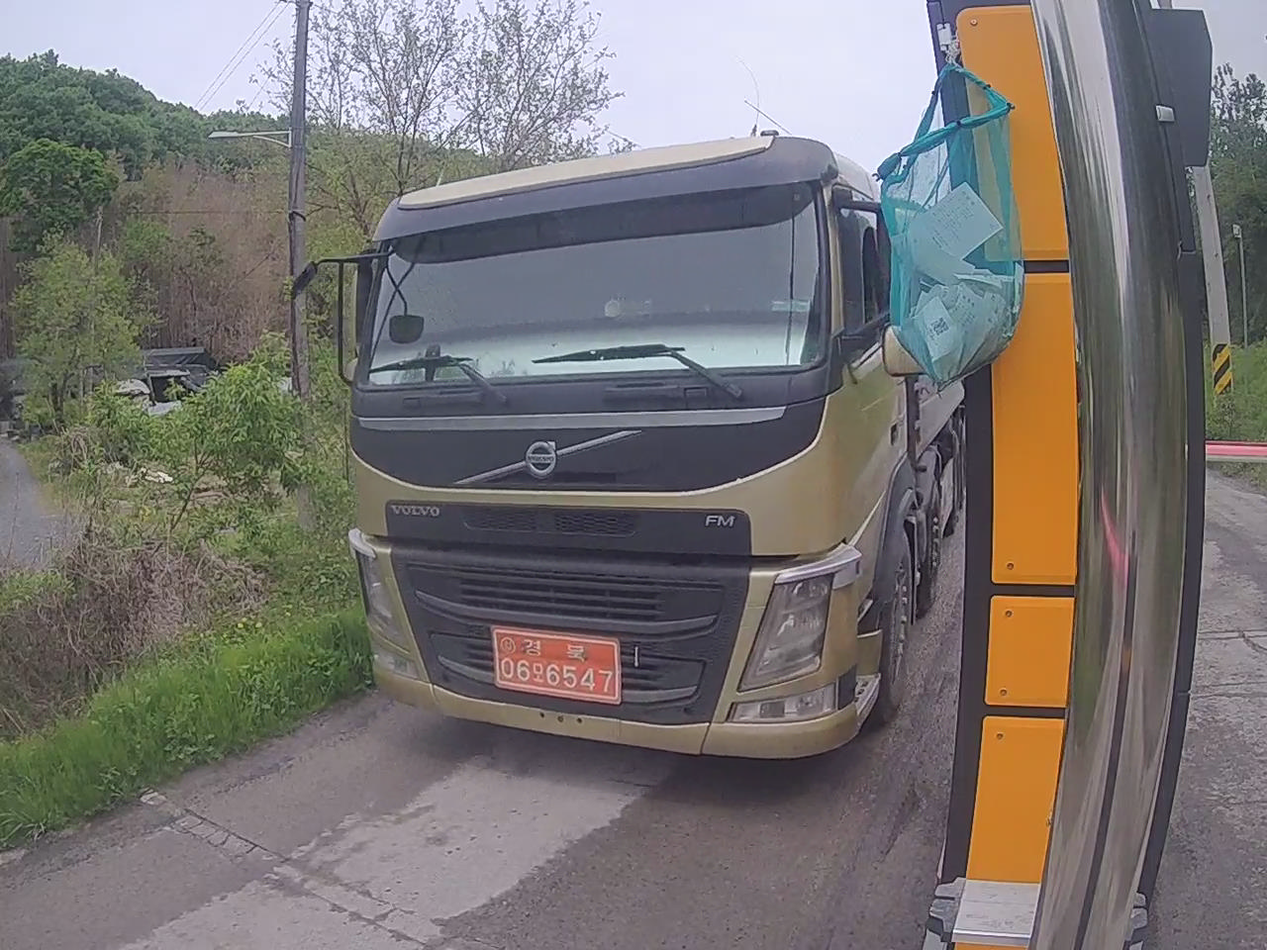license_plate: (492, 629, 621, 703)
truck: (329, 134, 963, 757)
